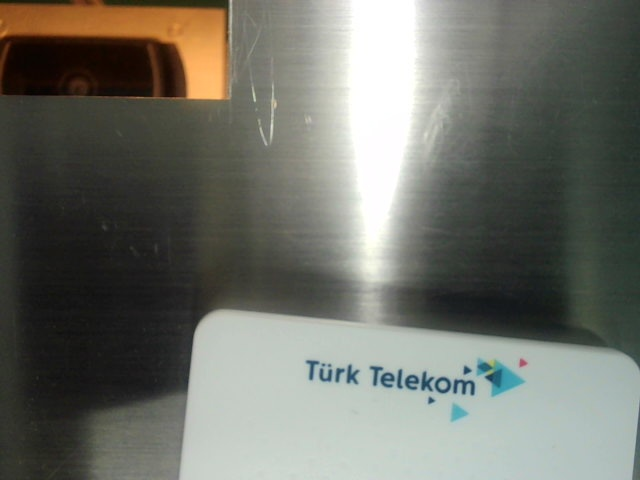AQ_TURKTelekom: (301, 331, 538, 431)
